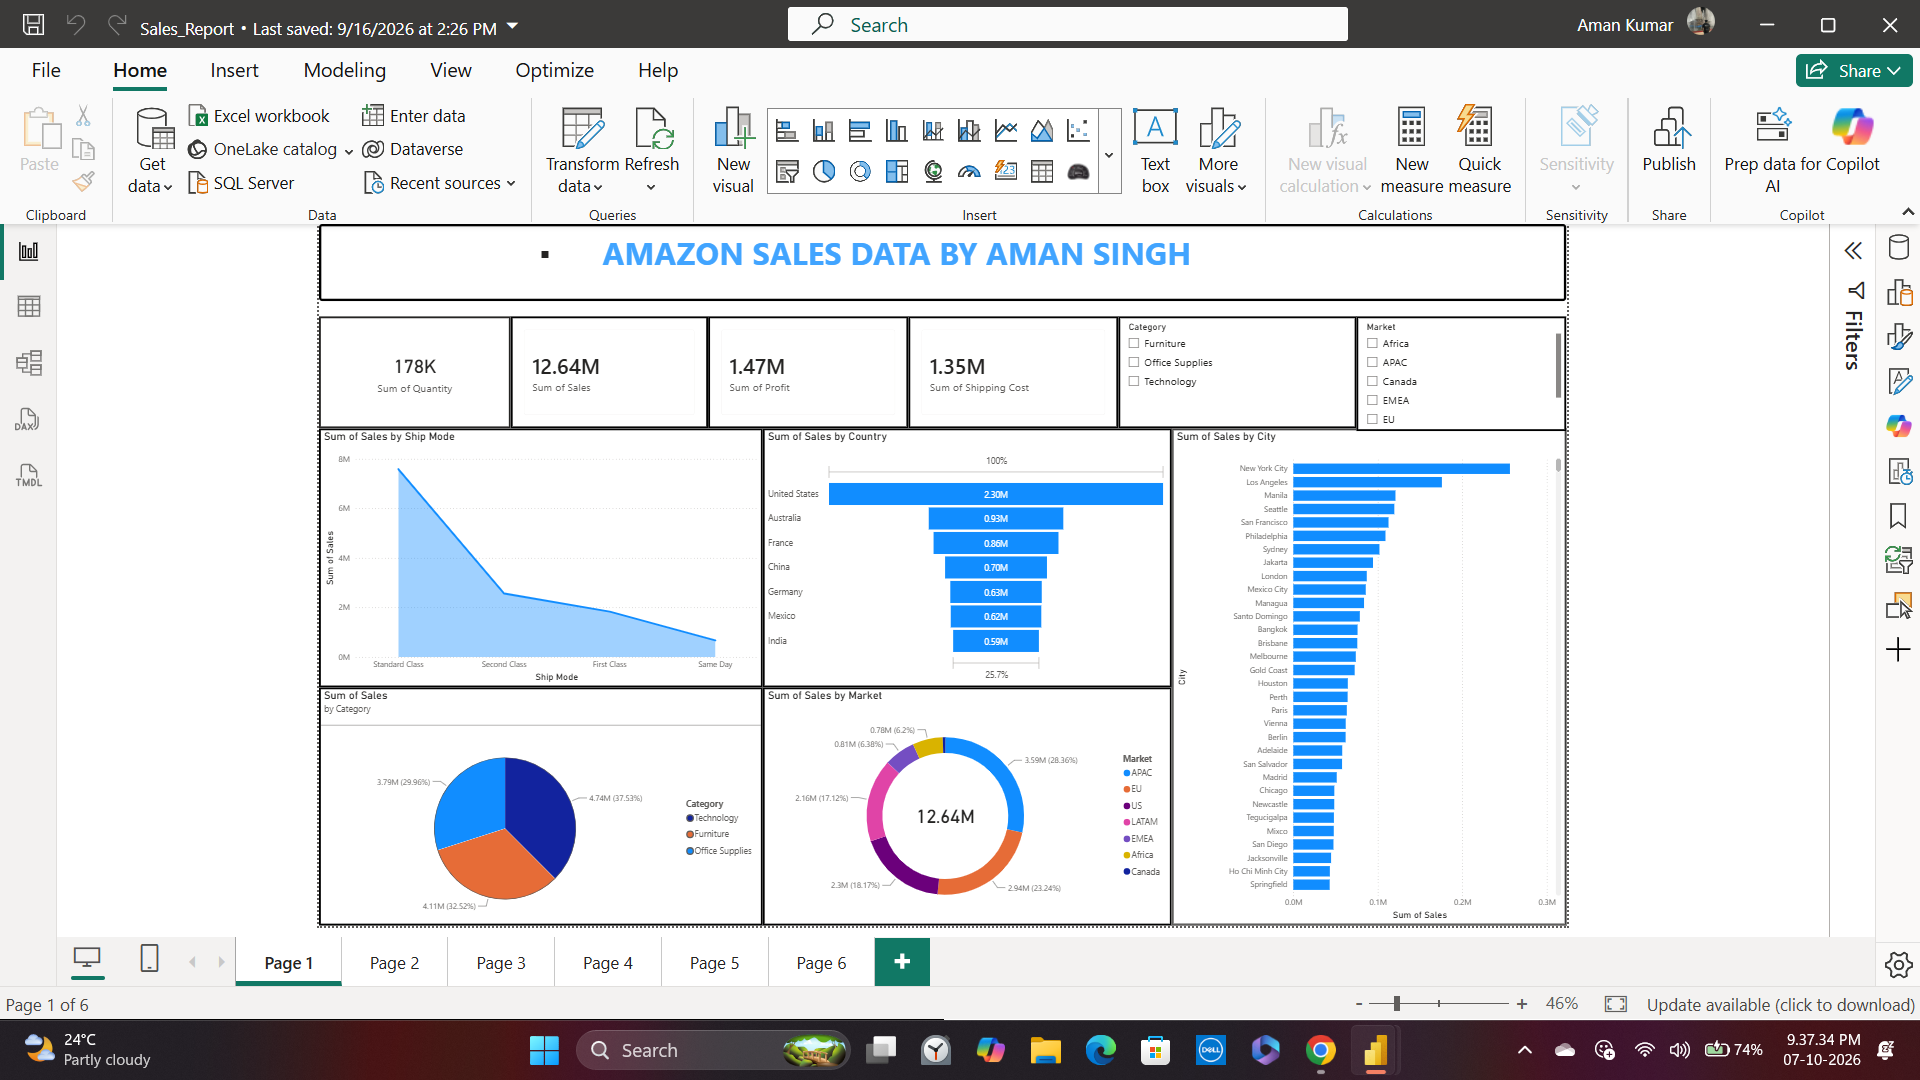

The dashboard page shown, as its layout file describes it:
{"tool":"powerbi","page":{"name":"Page 1","canvas":[1920,1080],"ordinal":0},"visuals":[{"type":"pieChart","fields":{"Category":["Orders.Category"],"Y":["Sum(Orders.Sales)"]},"box":[0,713.1,682.9,366.3],"z":0},{"type":"donutChart","fields":{"Category":["Orders.Market"],"Y":["Sum(Orders.Sales)"]},"box":[682.9,713.1,629.1,366.3],"z":1000},{"type":"areaChart","fields":{"Category":["Orders.Ship Mode"],"Y":["Sum(Orders.Sales)"]},"box":[0,314.5,682.9,398.6],"z":2000},{"type":"barChart","fields":{"Category":["Orders.City"],"Y":["Sum(Orders.Sales)"]},"box":[1312,314.5,607.5,764.8],"z":3000},{"type":"funnel","fields":{"Category":["Orders.Country"],"Y":["Sum(Orders.Sales)"]},"box":[682.9,314.5,629.1,398.6],"z":4000},{"type":"textbox","box":[0,0,1919.6,118.5],"z":5000},{"type":"card","fields":{"Values":["Sum(Orders.Quantity)"]},"box":[0,142.2,295.2,172.4],"z":6000},{"type":"cardVisual","fields":{"Data":["Sum(Orders.Sales)"]},"box":[295.2,142.2,303.8,172.4],"z":7000},{"type":"cardVisual","fields":{"Data":["Sum(Orders.Profit)"]},"box":[598.9,142.2,308.1,172.4],"z":8000},{"type":"cardVisual","fields":{"Data":["Sum(Orders.Shipping Cost)"]},"box":[907,142.2,323.2,172.4],"z":9000},{"type":"slicer","fields":{"Values":["Orders.Category"]},"box":[1230.2,142.2,366.3,172.4],"z":10000},{"type":"slicer","fields":{"Values":["Orders.Market"]},"box":[1596.4,142.2,323.2,176.7],"z":11000}]}

Visuals, with their boxes on the page's 1920x1080 design canvas (x1, y1, x2, y2). These are canvas units, not pixel positions in the 1920x1080 screenshot, which may show the page scaled, cropped or inside an application window:
pieChart - Orders.Category x Sum(Orders.Sales): <box>0,713,683,1079</box>
donutChart - Orders.Market x Sum(Orders.Sales): <box>683,713,1312,1079</box>
areaChart - Orders.Ship Mode x Sum(Orders.Sales): <box>0,314,683,713</box>
barChart - Orders.City x Sum(Orders.Sales): <box>1312,314,1920,1079</box>
funnel - Orders.Country x Sum(Orders.Sales): <box>683,314,1312,713</box>
textbox: <box>0,0,1920,118</box>
card - Sum(Orders.Quantity): <box>0,142,295,315</box>
cardVisual - Sum(Orders.Sales): <box>295,142,599,315</box>
cardVisual - Sum(Orders.Profit): <box>599,142,907,315</box>
cardVisual - Sum(Orders.Shipping Cost): <box>907,142,1230,315</box>
slicer - Orders.Category: <box>1230,142,1596,315</box>
slicer - Orders.Market: <box>1596,142,1920,319</box>
